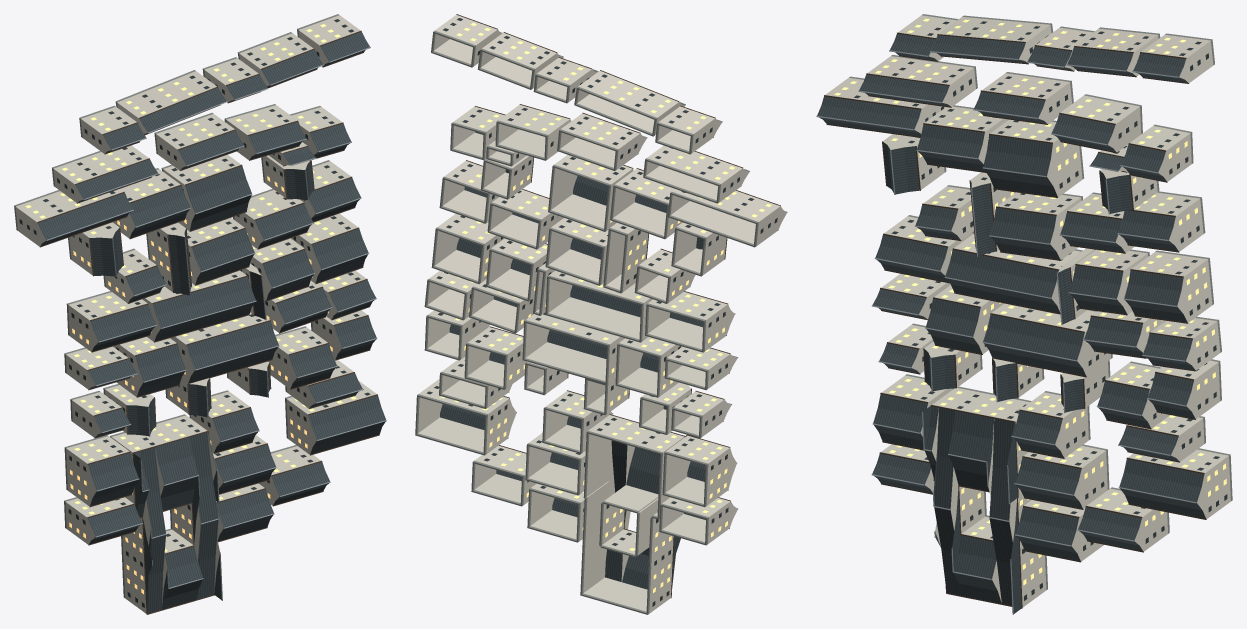
File: far.glb
3 views of the same model, side by side, from view 1: azimuth 30°, elevation 25°; view 2: azimuth 150°, elevation 25°; view 3: azimuth 330°, elevation 25° (orthographic). The views are drawn at different scales.
Parts seen in each view (by area): view 1: relation/8507458, way/614367246, way/614367241, way/614367238, way/614367184, way/614367190, way/614367251, way/614367239, way/614428692, way/614367187, way/614367186, way/614367209 (+33 smaller); view 2: relation/8507458, way/614367246, way/614367241, way/614367238, way/614367184, way/614367190, way/614367251, way/614367239, way/614428692, way/614367187, way/614367186, way/614367209 (+33 smaller); view 3: relation/8507458, way/614367238, way/614367246, way/614367190, way/614367241, way/614367209, way/614367189, way/614367248, way/614367187, way/614428692, way/614367184, way/614367205 (+33 smaller).
Part boxes in pixels (x1,y1,x2,y2): relation/8507458: [110, 414, 222, 614]; way/614367246: [170, 312, 279, 383]; way/614367241: [142, 270, 256, 342]; way/614367238: [285, 380, 386, 455]; way/614367184: [14, 189, 133, 247]; way/614367190: [161, 154, 252, 231]; way/614367251: [64, 435, 139, 507]; way/614367239: [66, 291, 156, 352]; way/614428692: [115, 70, 227, 135]; way/614367187: [52, 145, 158, 203]; way/614367186: [154, 112, 244, 170]; way/614367209: [291, 213, 369, 284]; relation/8507458: [580, 414, 687, 614]; way/614367246: [522, 312, 624, 384]; way/614367241: [545, 270, 652, 342]; way/614367238: [415, 379, 516, 455]; way/614367184: [667, 189, 787, 247]; way/614367190: [548, 154, 633, 231]; way/614367251: [662, 435, 737, 507]; way/614367239: [645, 291, 735, 352]; way/614428692: [574, 70, 685, 136]; way/614367187: [643, 145, 749, 203]; way/614367186: [557, 112, 647, 170]; way/614367209: [431, 214, 504, 284]; relation/8507458: [922, 386, 1047, 614]; way/614367238: [1118, 448, 1232, 519]; way/614367246: [982, 303, 1112, 377]; way/614367190: [982, 119, 1084, 197]; way/614367241: [944, 233, 1082, 314]; way/614367209: [1123, 250, 1213, 323]; way/614367189: [989, 192, 1082, 260]; way/614367248: [1014, 444, 1109, 509]; way/614367187: [858, 55, 977, 107]; way/614428692: [930, 15, 1053, 64]; way/614367184: [816, 76, 945, 137]; way/614367205: [1117, 191, 1205, 252].
Bounding box in the file's own units: 79.88 × 119 × 12.78.
7 materials, 1 textured.
